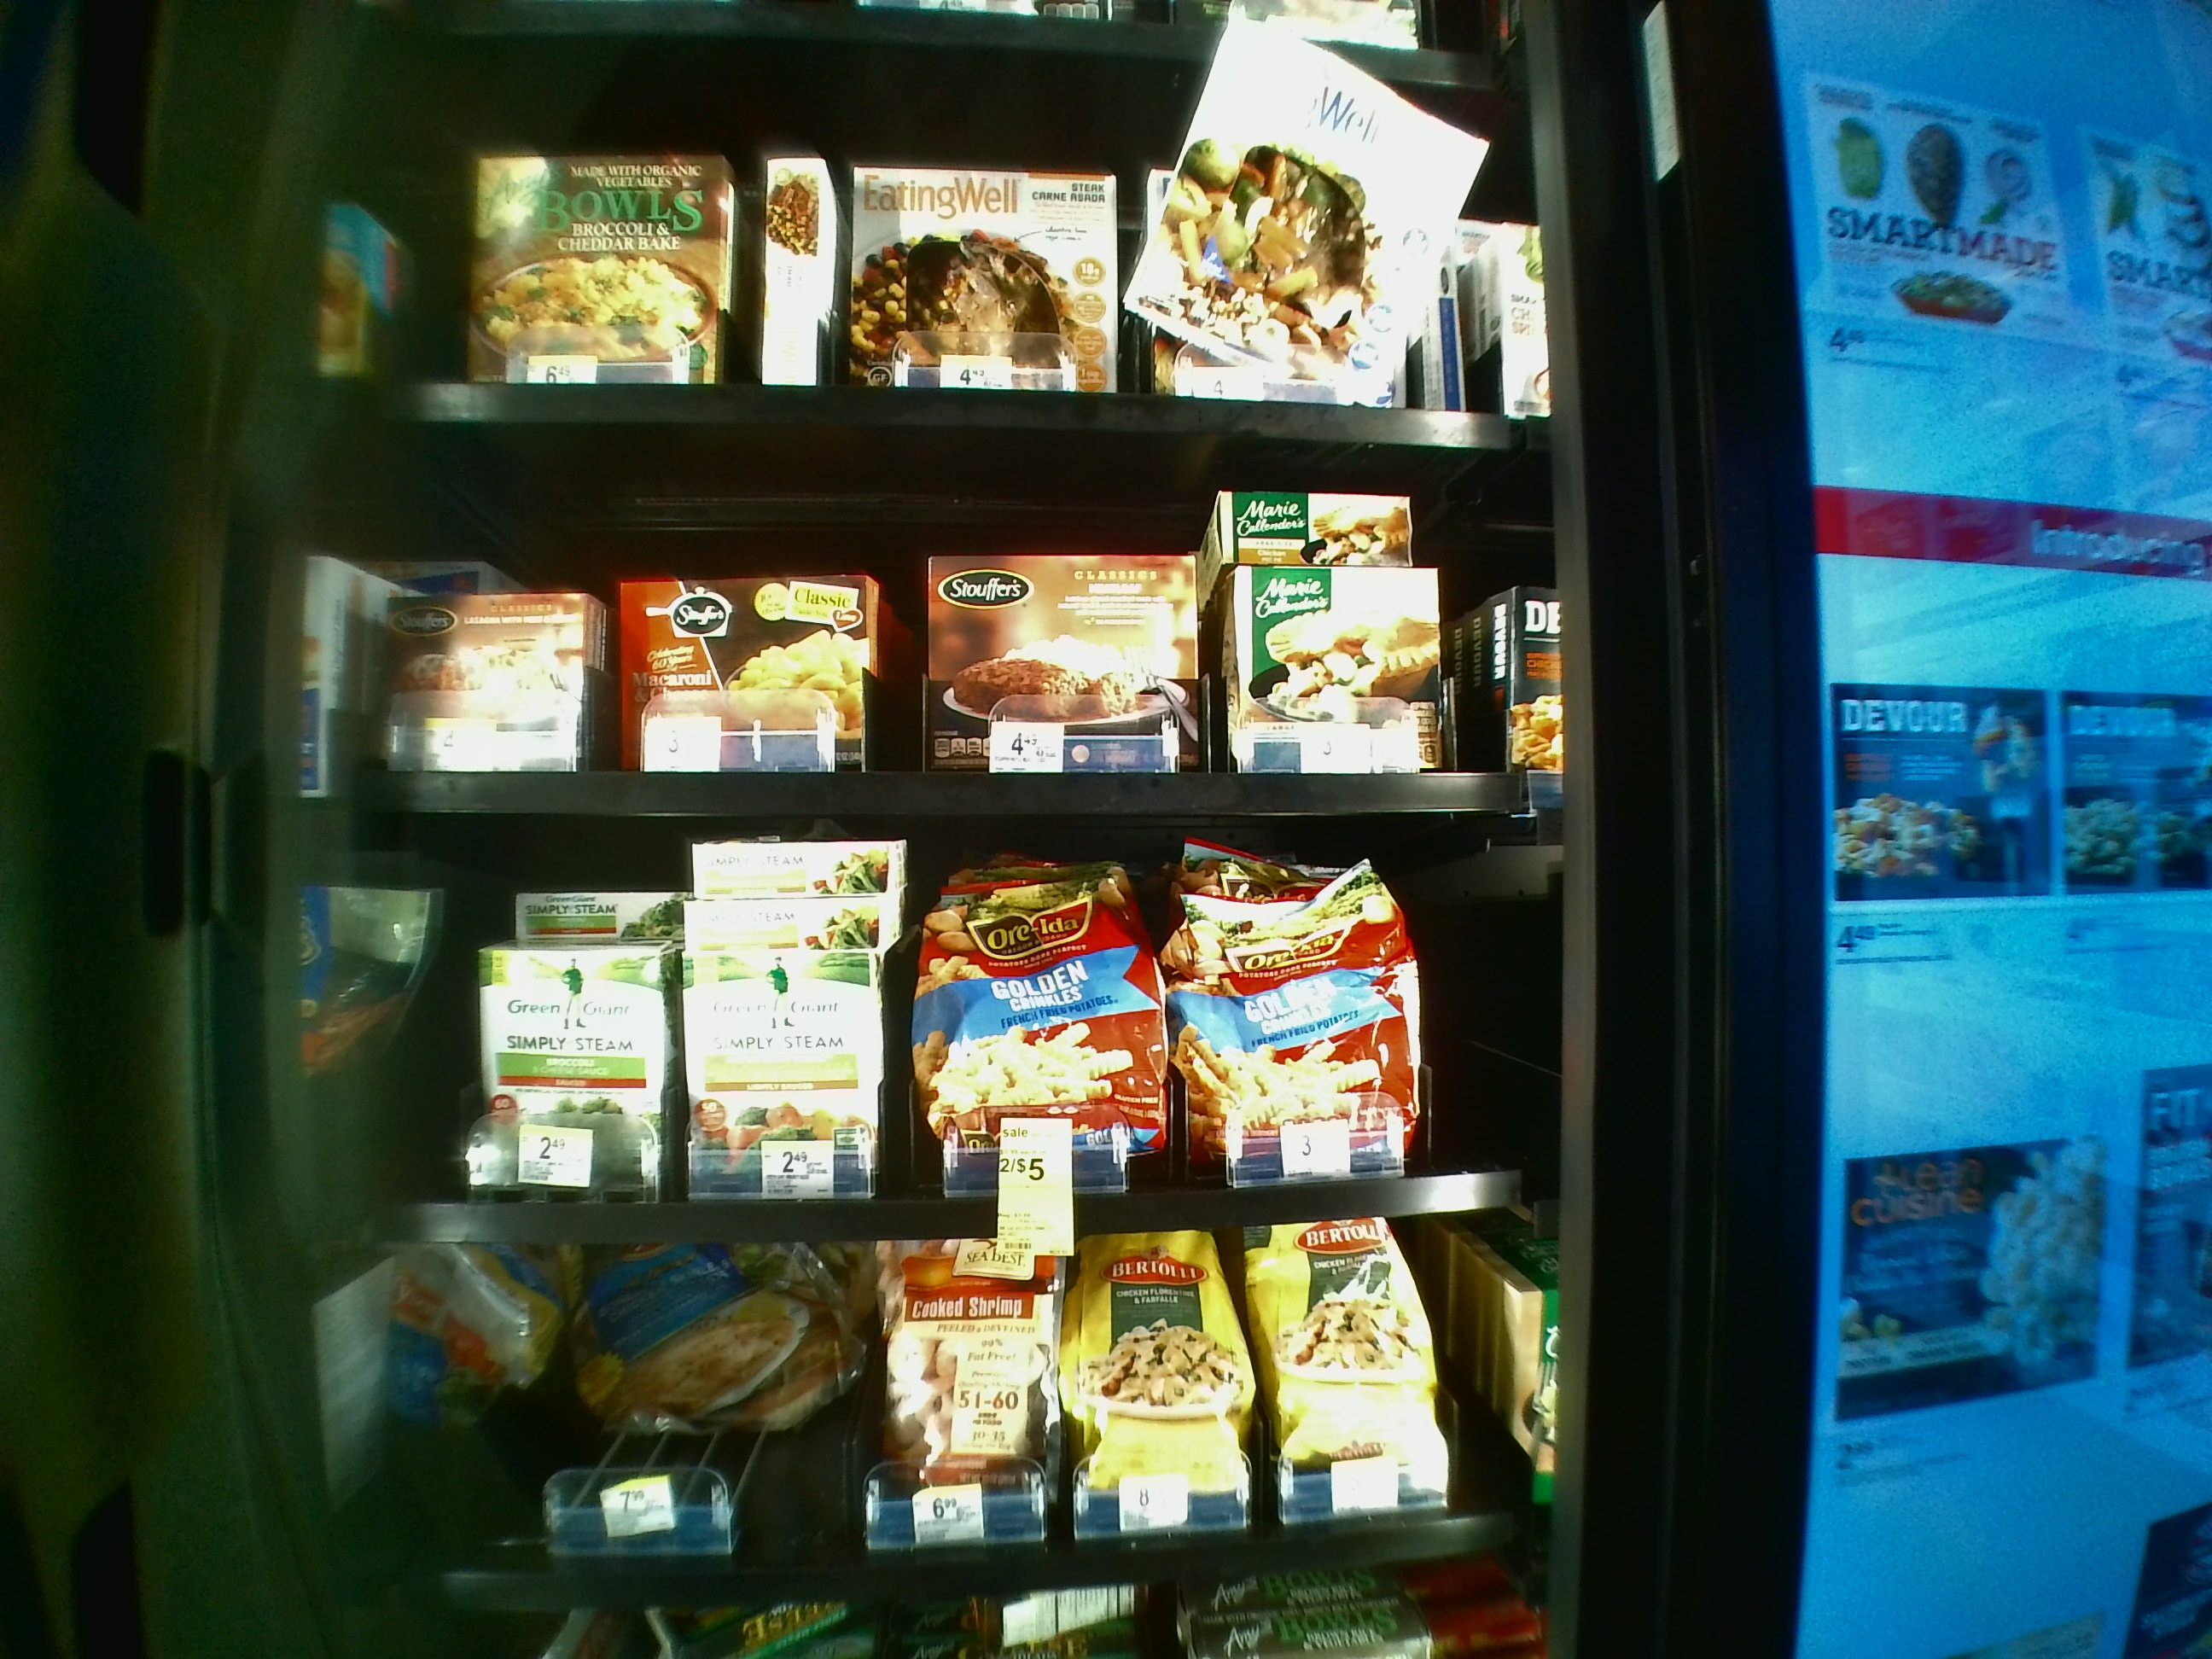shelf: (329, 833, 1545, 1248), (326, 430, 1538, 812)
